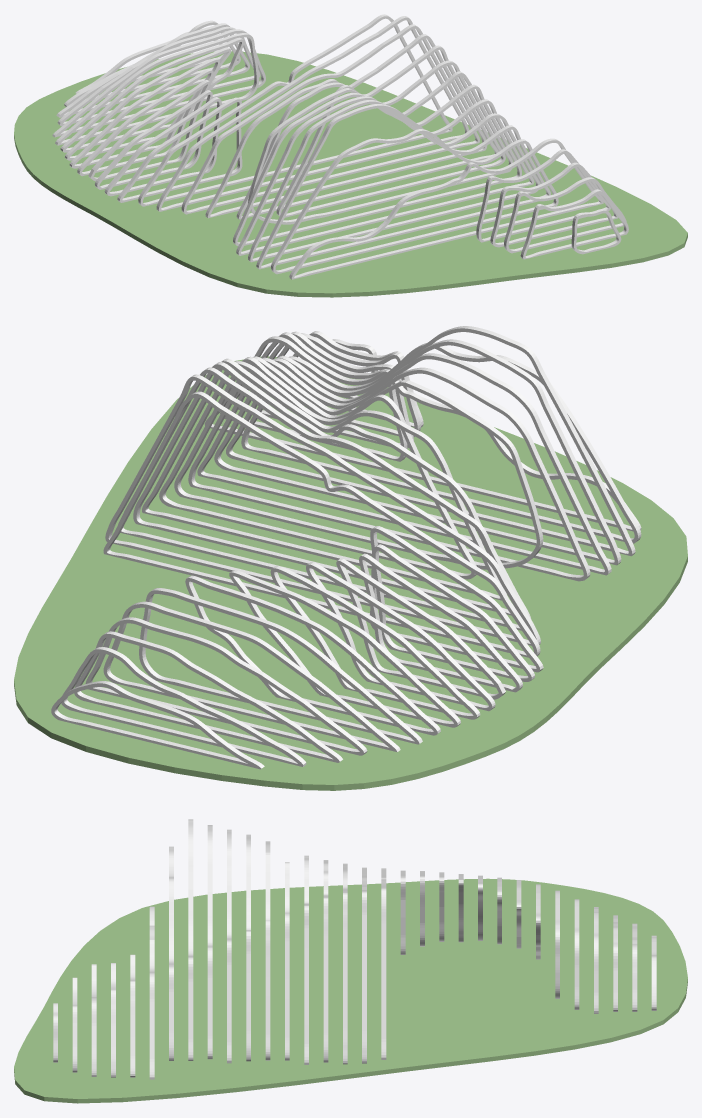
Rendered from Internal Envelope.fbx.
3 views of the same model, one above another, from view 1: azimuth 30°, elevation 25°; view 2: azimuth 150°, elevation 25°; view 3: azimuth 270°, elevation 25° (orthographic). The views are drawn at different scales.
Parts seen in each view (by area): view 1: Internal Envelop; view 2: Internal Envelop; view 3: Internal Envelop.
Boxes of the visible parts, x1,y1,x2,y2 form: Internal Envelop: (14,14,687,297); Internal Envelop: (14,326,687,790); Internal Envelop: (14,819,687,1103).
Size of the model in its own units: 54 by 69.81 by 16.52.
